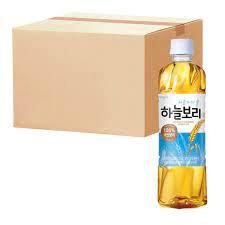haneulbori: (156, 39, 214, 210)
